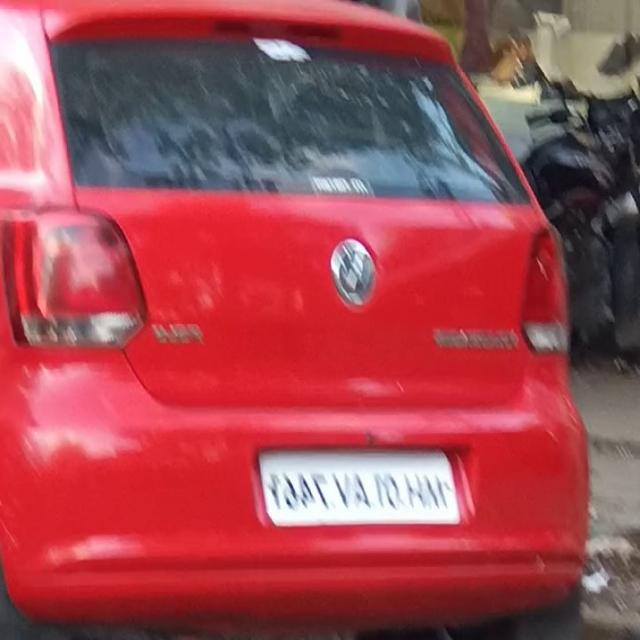license_plate: (247, 432, 473, 540)
